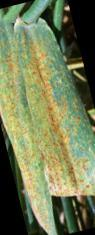Wheat: (6, 44, 54, 114), (51, 119, 87, 189), (16, 119, 48, 176)
